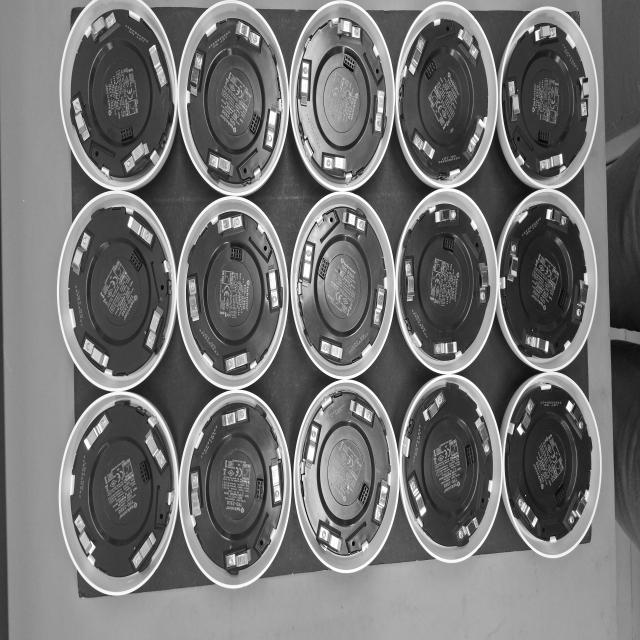yayli: (129, 531, 157, 571), (84, 412, 110, 452), (74, 514, 97, 559), (144, 428, 167, 470), (122, 140, 150, 174), (315, 519, 342, 554), (126, 214, 154, 247), (71, 232, 92, 276), (565, 490, 588, 530), (71, 96, 90, 144), (82, 337, 109, 370), (149, 44, 168, 90), (145, 307, 164, 353), (407, 472, 426, 518), (90, 11, 117, 43), (262, 104, 280, 151), (304, 420, 322, 467), (466, 116, 485, 160), (564, 398, 586, 436), (458, 27, 480, 64), (516, 399, 537, 437), (372, 479, 389, 525), (516, 493, 538, 528), (348, 396, 374, 425), (236, 21, 261, 51), (412, 130, 434, 164), (207, 151, 233, 179), (407, 36, 425, 76), (475, 416, 492, 458), (573, 278, 589, 322), (189, 52, 204, 98), (456, 514, 479, 543), (342, 210, 367, 236), (301, 242, 315, 288), (270, 461, 284, 506), (216, 213, 244, 235), (187, 275, 200, 322), (506, 242, 520, 285), (424, 392, 444, 422), (322, 152, 348, 175), (372, 285, 386, 327), (267, 268, 280, 312), (222, 406, 248, 428), (224, 548, 250, 570), (524, 333, 550, 355), (190, 470, 202, 516), (225, 351, 250, 373), (320, 339, 343, 362), (338, 20, 362, 42), (300, 59, 311, 107), (404, 256, 415, 303), (508, 80, 520, 122), (546, 207, 570, 228), (374, 89, 385, 133), (578, 76, 589, 118), (534, 25, 557, 45), (539, 153, 563, 172), (478, 264, 489, 302), (435, 208, 458, 225), (433, 341, 456, 358)
